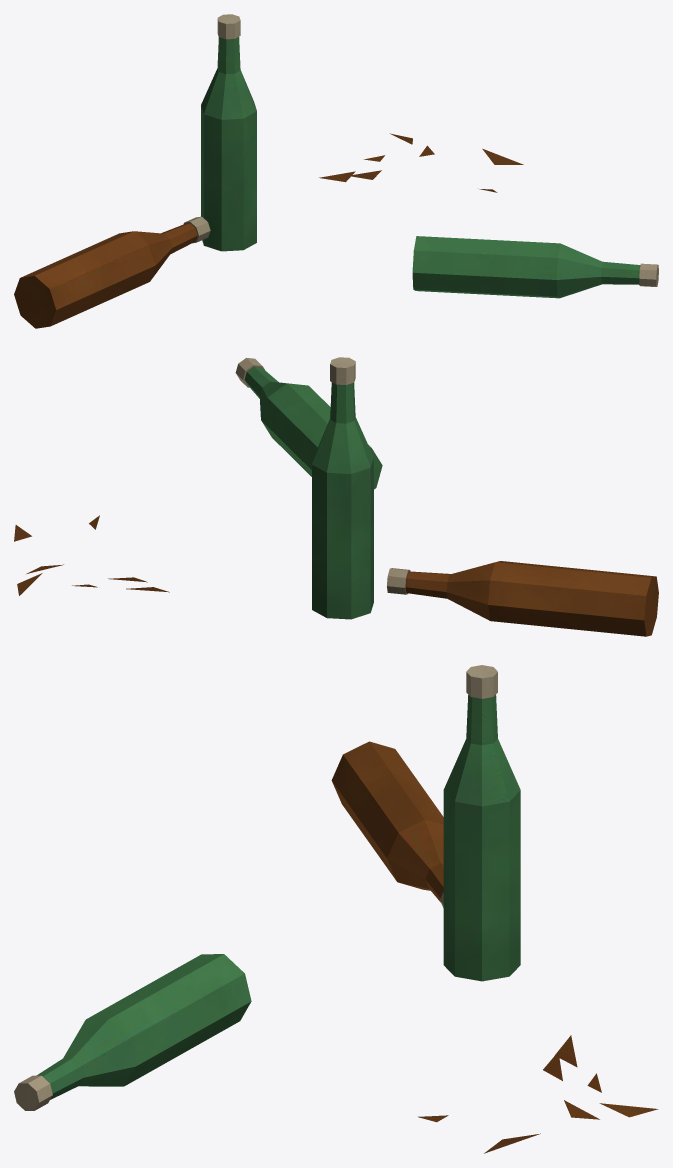
File: trash_bottles_idle.glb
The picture shows the model from 3 angles, top to bottom: view 1: azimuth 30°, elevation 25°; view 2: azimuth 150°, elevation 25°; view 3: azimuth 270°, elevation 25°; orthographic projection. The views are drawn at different scales.
Parts seen in each view (by area): view 1: trash_bottles; view 2: trash_bottles; view 3: trash_bottles.
Boxes of the visible parts, x1,y1,x2,y2 form: trash_bottles: (14,14,658,328); trash_bottles: (14,357,658,636); trash_bottles: (14,665,658,1153).
Size of the model in its own units: 0.7296 by 0.285 by 0.5678.
1 material, 1 textured.
